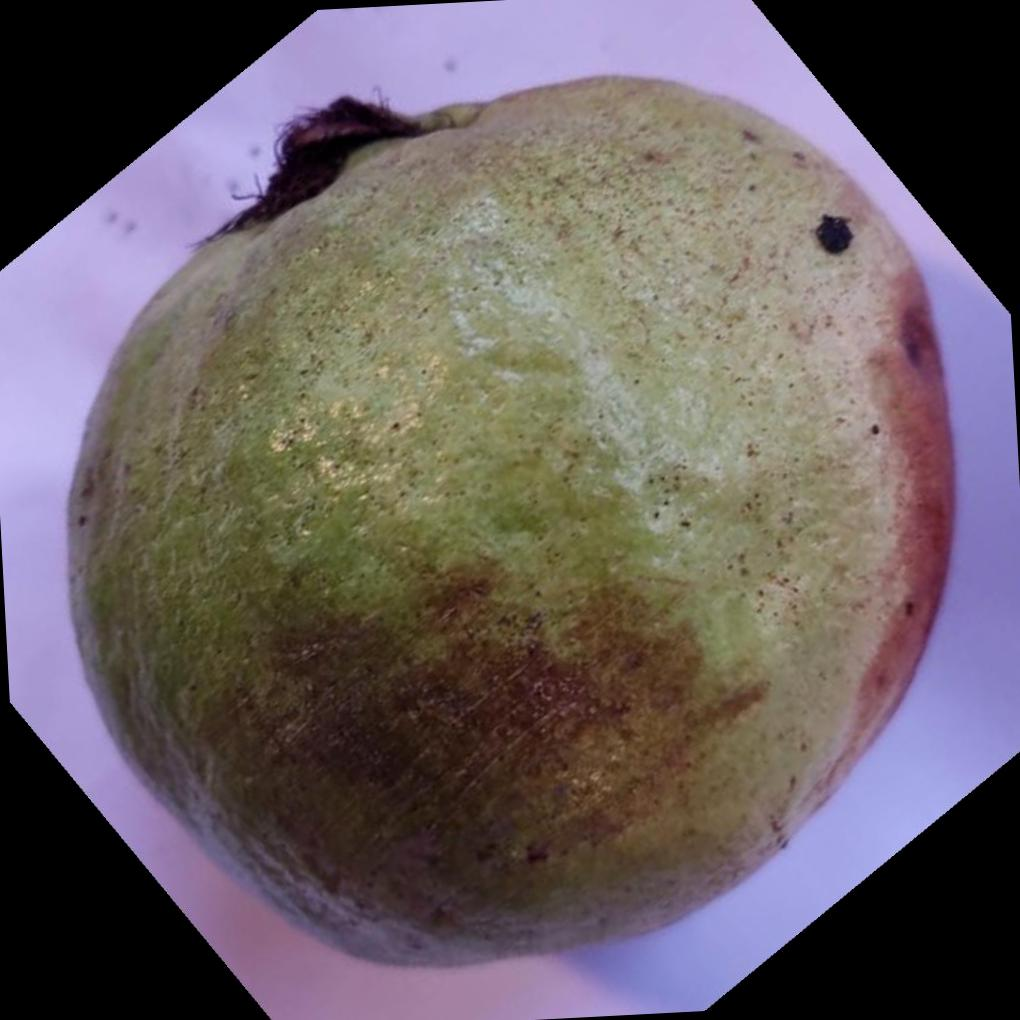FreshOrange: (62, 74, 959, 973)
